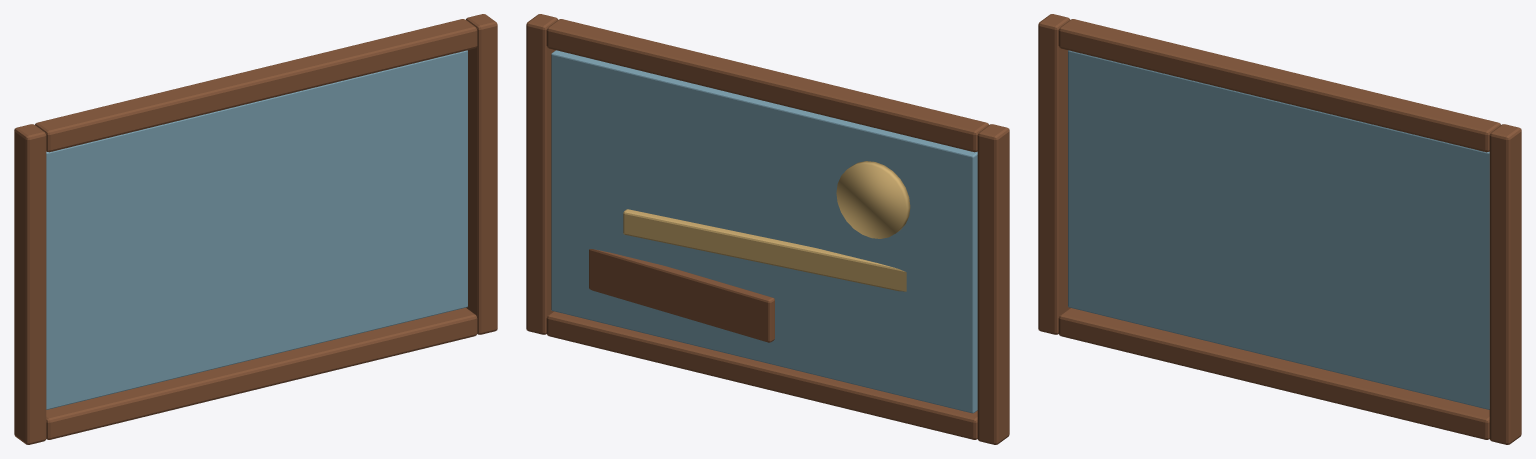
File: piano_art.glb
The picture shows the model from 3 angles, left to right: view 1: azimuth 30°, elevation 25°; view 2: azimuth 150°, elevation 25°; view 3: azimuth 330°, elevation 25°; orthographic projection.
Parts seen in each view (by area): view 1: living_piano_art_001_canvas, living_piano_art_005_frame_horizontal_1, living_piano_art_003_frame_horizontal_-1, living_piano_art_002_frame_vertical_-1, living_piano_art_004_frame_vertical_1; view 2: living_piano_art_001_canvas, living_piano_art_005_frame_horizontal_1, living_piano_art_003_frame_horizontal_-1, living_piano_art_002_frame_vertical_-1, living_piano_art_007_relief_foreground, living_piano_art_004_frame_vertical_1, living_piano_art_006_relief_horizon, living_piano_art_008_relief_moon; view 3: living_piano_art_001_canvas, living_piano_art_005_frame_horizontal_1, living_piano_art_003_frame_horizontal_-1, living_piano_art_004_frame_vertical_1, living_piano_art_002_frame_vertical_-1.
Boxes of the visible parts, box(x1,y1,x2,y2) form: living_piano_art_001_canvas: box(46, 50, 467, 409); living_piano_art_005_frame_horizontal_1: box(35, 19, 477, 152); living_piano_art_003_frame_horizontal_-1: box(46, 307, 477, 439); living_piano_art_002_frame_vertical_-1: box(14, 124, 46, 444); living_piano_art_004_frame_vertical_1: box(466, 14, 497, 334); living_piano_art_001_canvas: box(551, 50, 977, 413); living_piano_art_005_frame_horizontal_1: box(546, 19, 988, 152); living_piano_art_003_frame_horizontal_-1: box(546, 311, 977, 439); living_piano_art_002_frame_vertical_-1: box(977, 124, 1009, 444); living_piano_art_007_relief_foreground: box(589, 249, 774, 342); living_piano_art_004_frame_vertical_1: box(526, 14, 557, 334); living_piano_art_006_relief_horizon: box(623, 209, 906, 291); living_piano_art_008_relief_moon: box(836, 161, 910, 238); living_piano_art_001_canvas: box(1068, 50, 1489, 409); living_piano_art_005_frame_horizontal_1: box(1058, 19, 1500, 152); living_piano_art_003_frame_horizontal_-1: box(1058, 307, 1489, 439); living_piano_art_004_frame_vertical_1: box(1489, 124, 1521, 444); living_piano_art_002_frame_vertical_-1: box(1038, 14, 1069, 334).
Bounding box in the file's own units: 1.15 × 0.72 × 0.1012.
